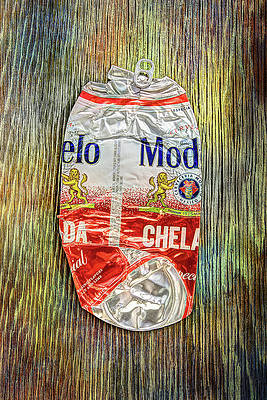can: (58, 58, 206, 333)
